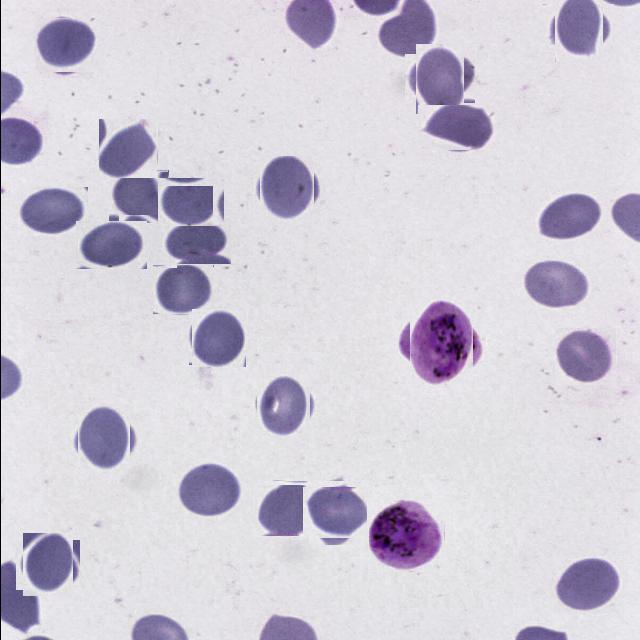red blood cell: (553, 556, 624, 613), (256, 158, 316, 220), (417, 105, 497, 151), (177, 463, 243, 518), (409, 48, 469, 108), (72, 410, 132, 470), (521, 260, 593, 310), (36, 15, 96, 75), (554, 328, 616, 386), (534, 192, 604, 242), (98, 119, 157, 178), (548, 0, 608, 58), (16, 187, 87, 236), (75, 221, 146, 269), (18, 536, 76, 594), (254, 376, 312, 434), (305, 484, 363, 542), (157, 178, 224, 227), (189, 309, 246, 366), (108, 170, 168, 224), (160, 218, 230, 264), (257, 480, 313, 537), (152, 265, 213, 315)
trophozoite: (403, 306, 479, 382), (368, 500, 444, 572)
